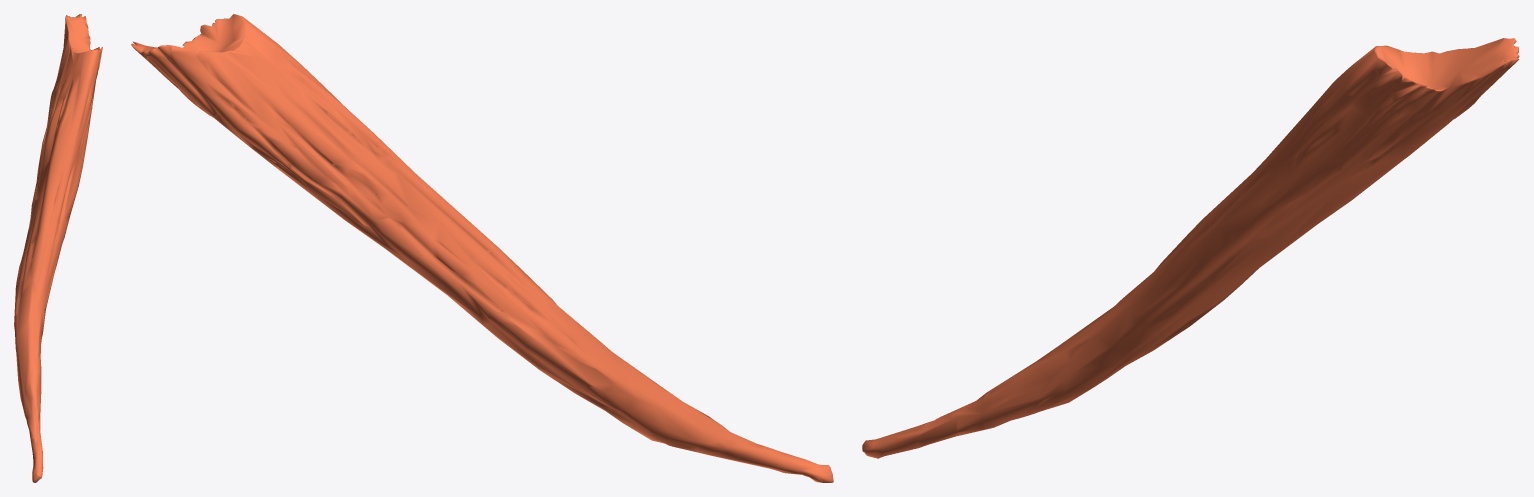
The model's file is Digastric_posterior_belly_left.glb.
The picture shows the model from 3 angles, left to right: view 1: azimuth 30°, elevation 25°; view 2: azimuth 150°, elevation 25°; view 3: azimuth 270°, elevation 25°; orthographic projection. The views are drawn at different scales.
Parts seen in each view (by area): view 1: Posterior_belly_of_digastric_muscle.l_Generated_Mesh_From_X3; view 2: Posterior_belly_of_digastric_muscle.l_Generated_Mesh_From_X3; view 3: Posterior_belly_of_digastric_muscle.l_Generated_Mesh_From_X3.
Part boxes in pixels (x1,y1,x2,y2): Posterior_belly_of_digastric_muscle.l_Generated_Mesh_From_X3: (14,14,102,482); Posterior_belly_of_digastric_muscle.l_Generated_Mesh_From_X3: (131,14,833,482); Posterior_belly_of_digastric_muscle.l_Generated_Mesh_From_X3: (862,38,1519,458).
Size of the model in its own units: 0.047 by 0.0641 by 0.0631.
